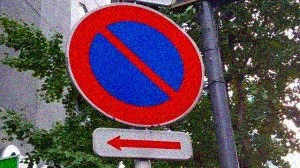Prohibition_sign: (50, 1, 214, 140)
